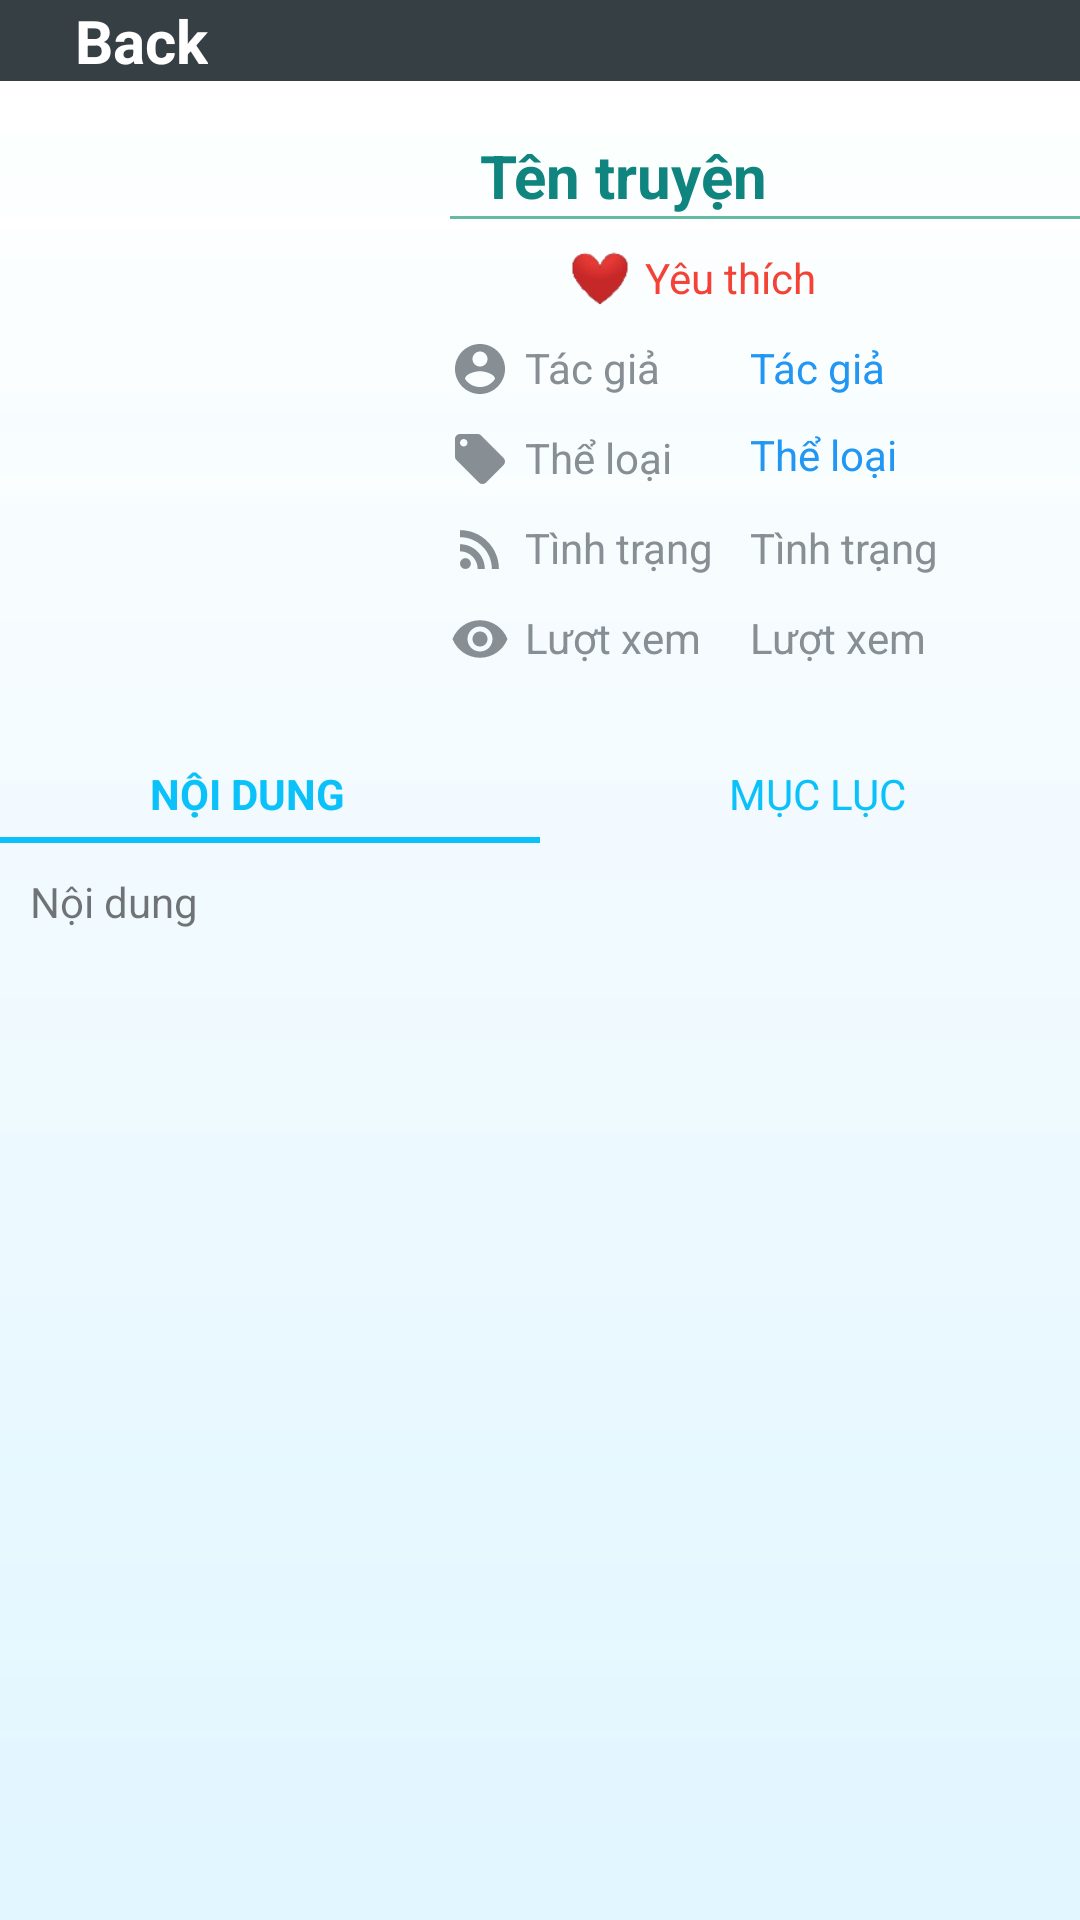

Locate icon controls on the screen. Image size 1080×1920, boxes as (x1, y1, x2, y2).
account circle: (455, 344, 505, 394)
heart: (572, 252, 628, 304)
local offer: (455, 434, 505, 484)
rss feed: (460, 530, 499, 569)
